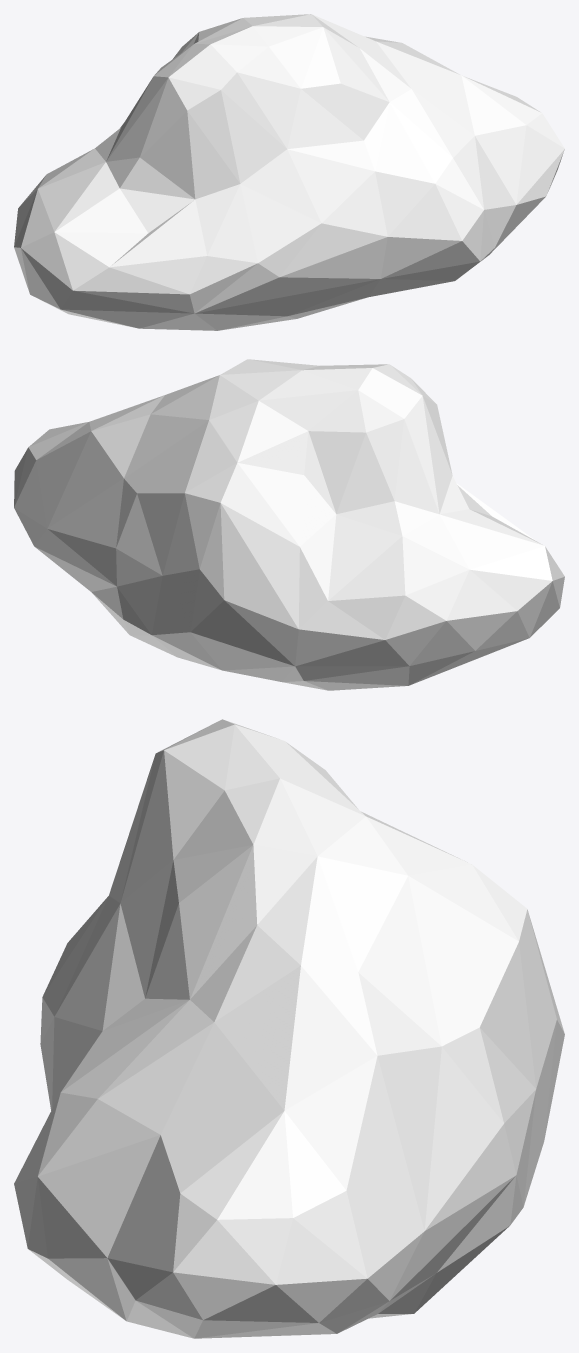
The model's file is Cloud_02.fbx.
3 renders of one model, top to bottom at view 1: azimuth 30°, elevation 25°; view 2: azimuth 150°, elevation 25°; view 3: azimuth 270°, elevation 25°, orthographic. The views are drawn at different scales.
Parts seen in each view (by area): view 1: Cloud_02; view 2: Cloud_02; view 3: Cloud_02.
Boxes of the visible parts, bbox=[...] form: Cloud_02: bbox=[14, 14, 564, 330]; Cloud_02: bbox=[14, 359, 564, 690]; Cloud_02: bbox=[14, 719, 564, 1338].
Bounding box in the file's own units: 4.31 × 2.22 × 2.39.
